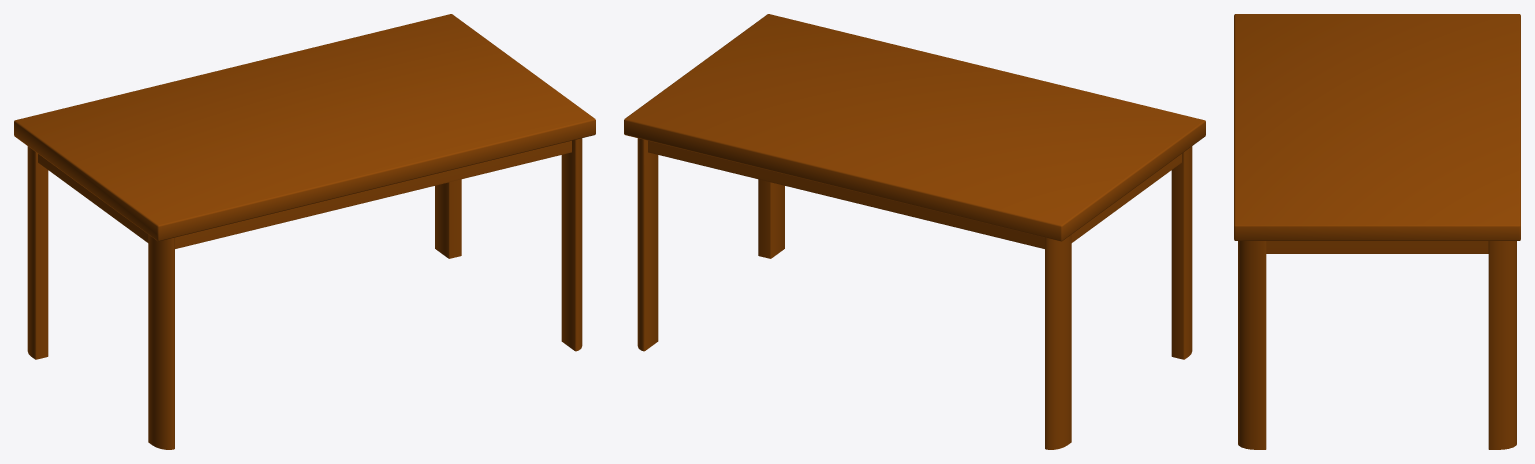
File: DiningTable.fbx
The picture shows the model from 3 angles, left to right: view 1: azimuth 30°, elevation 25°; view 2: azimuth 150°, elevation 25°; view 3: azimuth 270°, elevation 25°; orthographic projection.
Parts seen in each view (by area): view 1: DiningTable; view 2: DiningTable; view 3: DiningTable.
Part boxes in pixels (x1,y1,x2,y2): DiningTable: (14, 14, 595, 449); DiningTable: (624, 14, 1205, 449); DiningTable: (1234, 14, 1520, 449).
Size of the model in its own units: 1.68 by 0.84 by 0.96.
